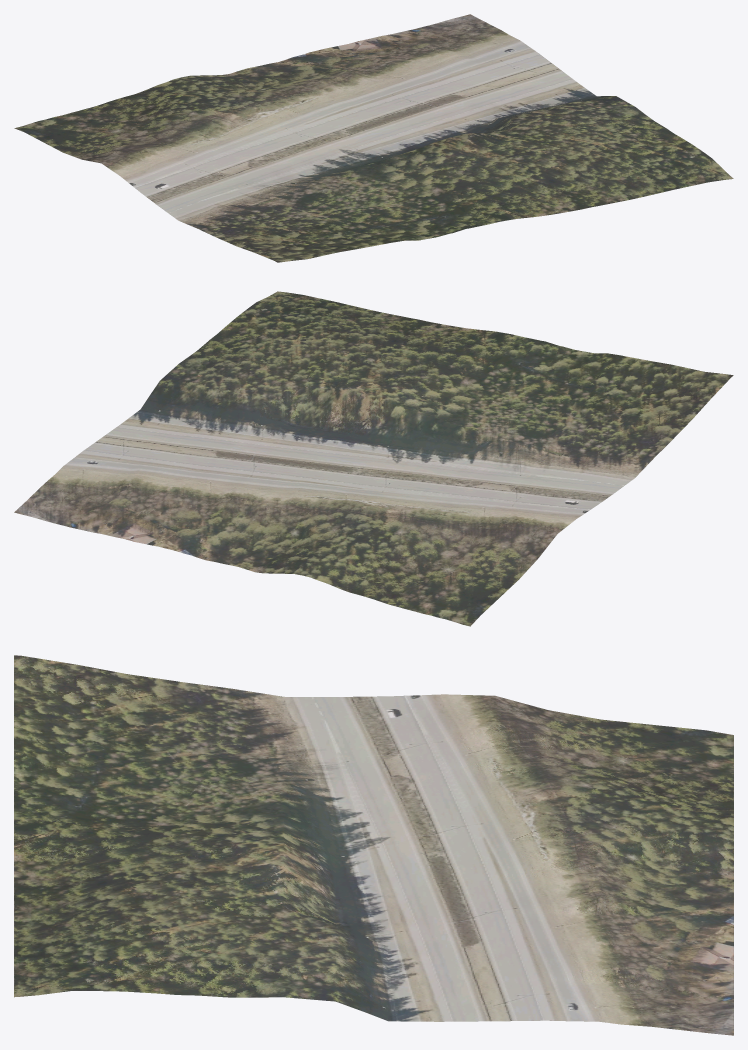
File: CM_Terrain_24490868_6817746.fbx
The picture shows the model from 3 angles, top to bottom: view 1: azimuth 30°, elevation 25°; view 2: azimuth 150°, elevation 25°; view 3: azimuth 270°, elevation 25°; orthographic projection. The views are drawn at different scales.
Parts seen in each view (by area): view 1: CM_Terrain_24490868_6817746_LOD0; view 2: CM_Terrain_24490868_6817746_LOD0; view 3: CM_Terrain_24490868_6817746_LOD0.
Boxes of the visible parts, x1,y1,x2,y2 form: CM_Terrain_24490868_6817746_LOD0: [14, 14, 733, 262]; CM_Terrain_24490868_6817746_LOD0: [14, 291, 733, 626]; CM_Terrain_24490868_6817746_LOD0: [14, 655, 733, 1035].
Size of what is drawn, in the model's own units: 205 by 25.07 by 205.
